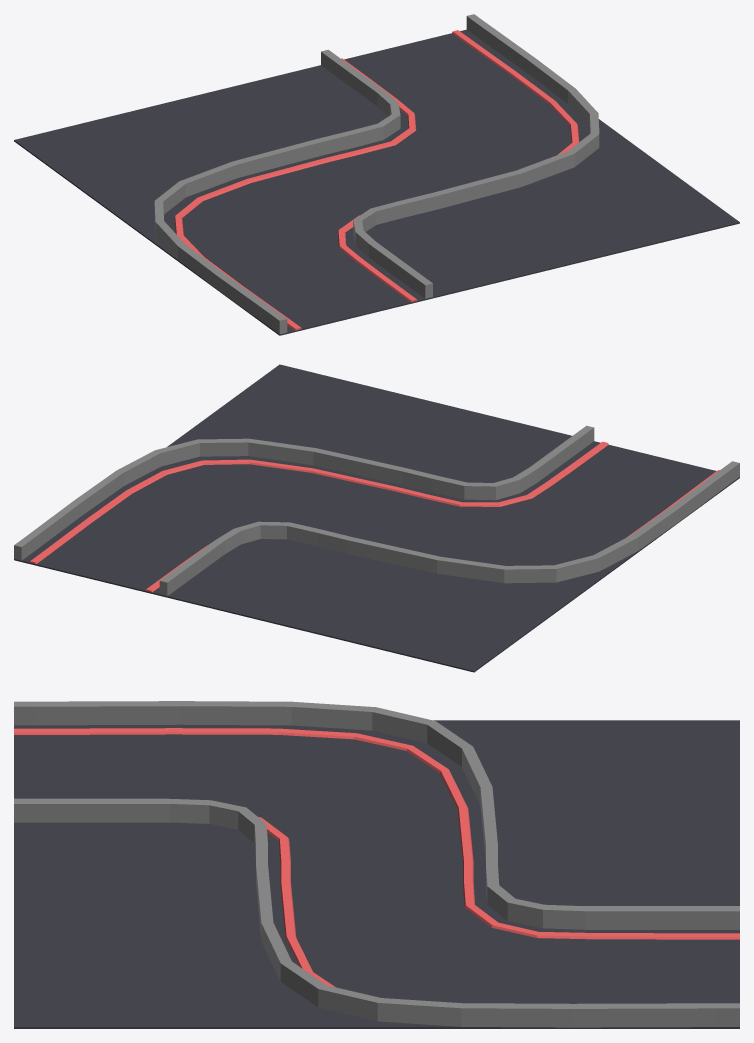
File: 3x3_s_turn_chicane.glb
3 views of the same model, one above another, from view 1: azimuth 30°, elevation 25°; view 2: azimuth 150°, elevation 25°; view 3: azimuth 270°, elevation 25° (orthographic). The views are drawn at different scales.
Visible parts, largest first — view 1: kartkids_base_trk_020_trn_90_l_1x1.089, kartkids_base_trk_020_trn_90_l_1x1.092, kartkids_base_trk_020_trn_90_l_1x1.093, kartkids_base_trk_020_trn_90_l_1x1.091, kartkids_base_trk_020_trn_90_l_1x1.094; view 2: kartkids_base_trk_020_trn_90_l_1x1.089, kartkids_base_trk_020_trn_90_l_1x1.092, kartkids_base_trk_020_trn_90_l_1x1.093, kartkids_base_trk_020_trn_90_l_1x1.094, kartkids_base_trk_020_trn_90_l_1x1.091; view 3: kartkids_base_trk_020_trn_90_l_1x1.089, kartkids_base_trk_020_trn_90_l_1x1.093, kartkids_base_trk_020_trn_90_l_1x1.092, kartkids_base_trk_020_trn_90_l_1x1.091, kartkids_base_trk_020_trn_90_l_1x1.094.
Boxes of the visible parts, x1=… form: kartkids_base_trk_020_trn_90_l_1x1.089: x1=14, y1=29, x2=739, y2=335; kartkids_base_trk_020_trn_90_l_1x1.092: x1=154, y1=135, x2=432, y2=334; kartkids_base_trk_020_trn_90_l_1x1.093: x1=321, y1=14, x2=599, y2=213; kartkids_base_trk_020_trn_90_l_1x1.091: x1=174, y1=154, x2=417, y2=330; kartkids_base_trk_020_trn_90_l_1x1.094: x1=341, y1=30, x2=579, y2=157; kartkids_base_trk_020_trn_90_l_1x1.089: x1=14, y1=364, x2=739, y2=672; kartkids_base_trk_020_trn_90_l_1x1.092: x1=332, y1=425, x2=739, y2=583; kartkids_base_trk_020_trn_90_l_1x1.093: x1=14, y1=438, x2=420, y2=596; kartkids_base_trk_020_trn_90_l_1x1.094: x1=29, y1=459, x2=411, y2=592; kartkids_base_trk_020_trn_90_l_1x1.091: x1=408, y1=441, x2=719, y2=536; kartkids_base_trk_020_trn_90_l_1x1.089: x1=14, y1=720, x2=739, y2=1028; kartkids_base_trk_020_trn_90_l_1x1.093: x1=256, y1=855, x2=739, y2=1027; kartkids_base_trk_020_trn_90_l_1x1.092: x1=14, y1=701, x2=497, y2=862; kartkids_base_trk_020_trn_90_l_1x1.091: x1=14, y1=728, x2=473, y2=872; kartkids_base_trk_020_trn_90_l_1x1.094: x1=280, y1=871, x2=739, y2=987.
Size of the model in its own units: 30.1 by 0.9339 by 30.
